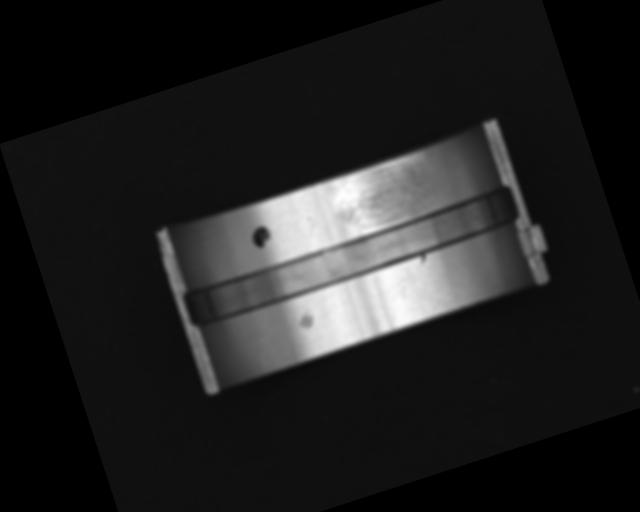blot: (248, 223, 273, 251)
bruise: (293, 306, 317, 333), (418, 252, 428, 266)
gap: (179, 184, 525, 329)
scratch: (325, 151, 440, 239)
